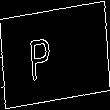P_N: (43, 27, 67, 83)
